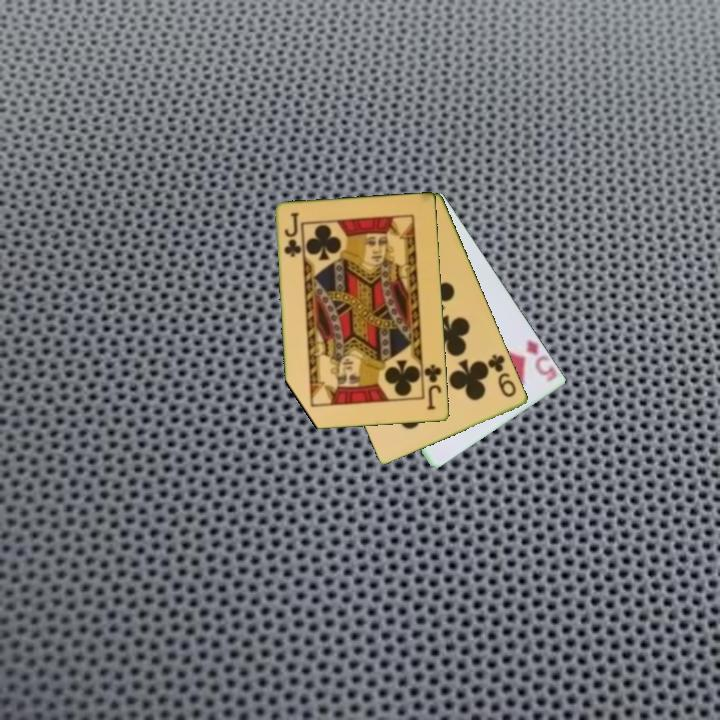5d: (523, 336, 557, 383)
9c: (484, 350, 520, 400)
Jc: (419, 359, 444, 413), (281, 209, 303, 260)
